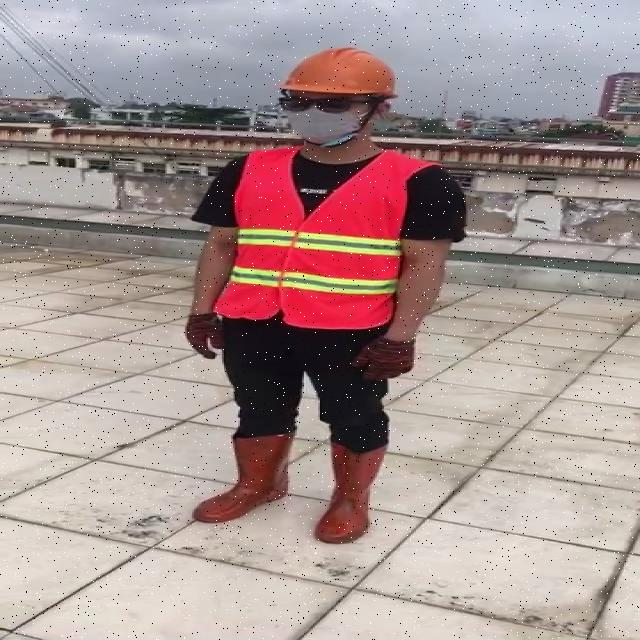Hard_hat: (274, 45, 412, 112)
Vest: (220, 141, 406, 331)
